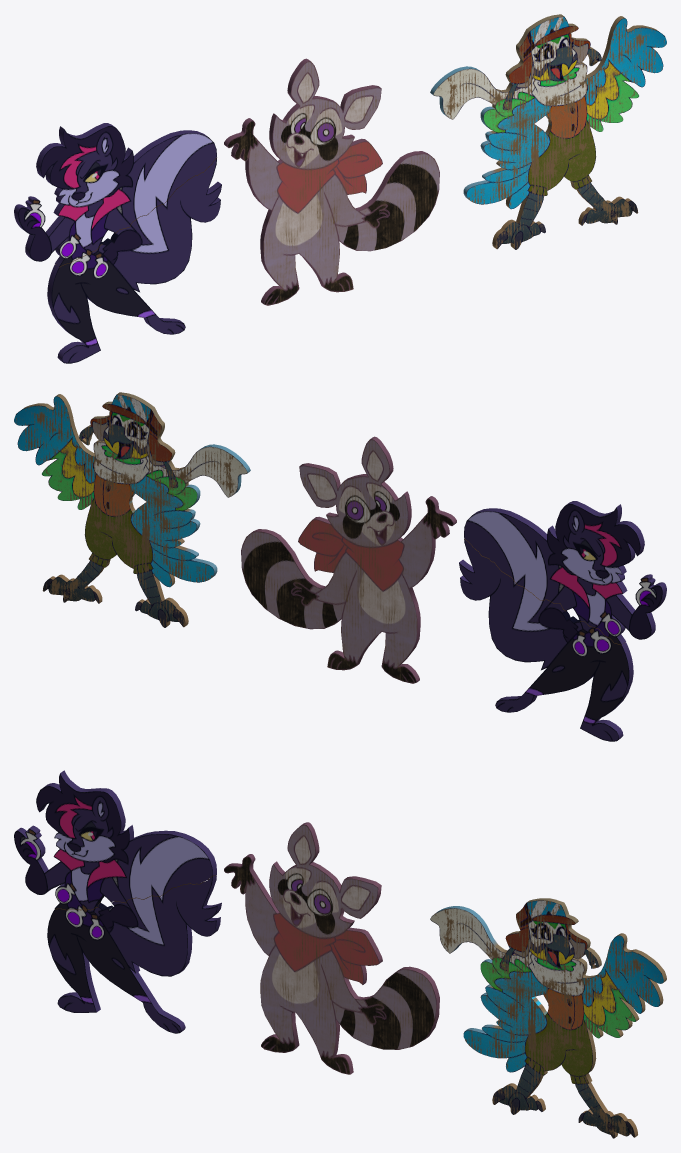
3 views of the same model, one above another, from view 1: azimuth 30°, elevation 25°; view 2: azimuth 150°, elevation 25°; view 3: azimuth 330°, elevation 25° (orthographic).
Parts seen in each view (by area): view 1: MollieCutout, RambleyCutout, SalemCutout1, SalemCutout2; view 2: MollieCutout, RambleyCutout, SalemCutout1, SalemCutout2; view 3: MollieCutout, RambleyCutout, SalemCutout1, SalemCutout2.
Boxes of the visible parts, <box> form: MollieCutout: <box>430,14,666,249</box>; RambleyCutout: <box>224,58,439,305</box>; SalemCutout1: <box>14,123,216,266</box>; SalemCutout2: <box>47,157,221,363</box>; MollieCutout: <box>14,392,250,627</box>; RambleyCutout: <box>241,436,456,683</box>; SalemCutout1: <box>464,501,666,644</box>; SalemCutout2: <box>459,539,633,741</box>; MollieCutout: <box>430,898,666,1138</box>; RambleyCutout: <box>224,822,439,1074</box>; SalemCutout1: <box>14,770,216,909</box>; SalemCutout2: <box>47,875,221,1033</box>.
Size of the model in its own units: 13.5 by 4.85 by 0.1526.
4 materials, 3 textured.
